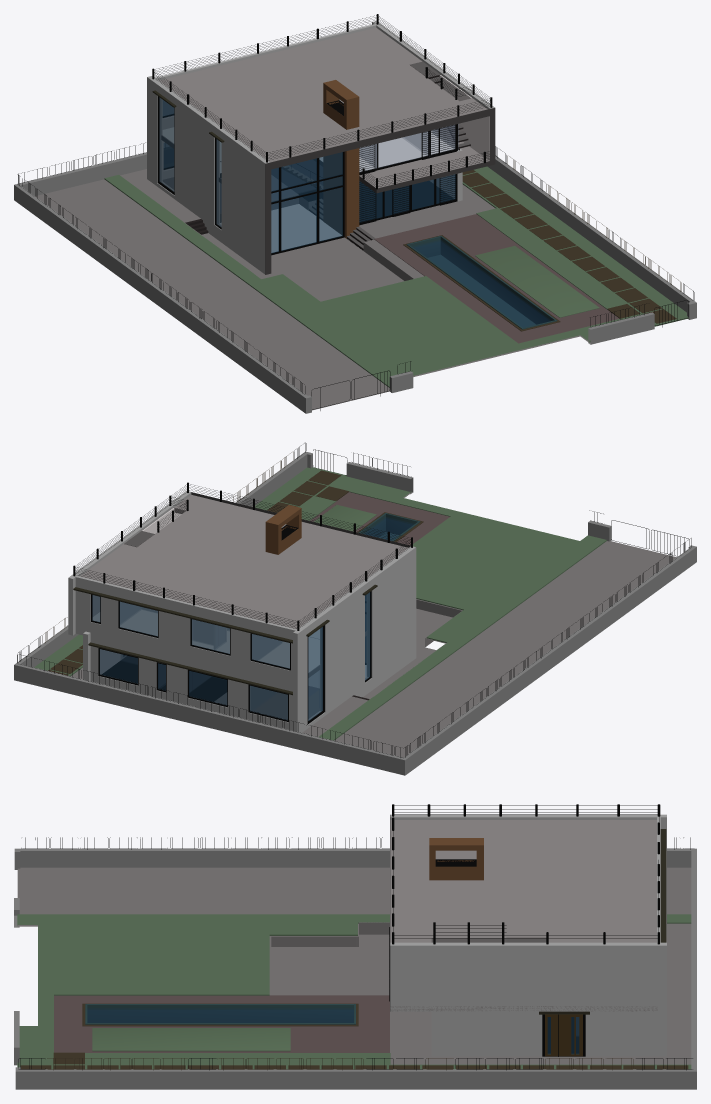
File: villa.glb
The picture shows the model from 3 angles, top to bottom: view 1: azimuth 30°, elevation 25°; view 2: azimuth 150°, elevation 25°; view 3: azimuth 270°, elevation 25°; orthographic projection. The views are drawn at different scales.
Parts seen in each view (by area): view 1: body; view 2: body; view 3: body.
Part boxes in pixels (box(x1,y1,x2,y2)): body: box(14, 14, 696, 413); body: box(14, 442, 696, 775); body: box(14, 804, 696, 1089).
Size of the model in its own units: 30.92 by 11.19 by 40.
